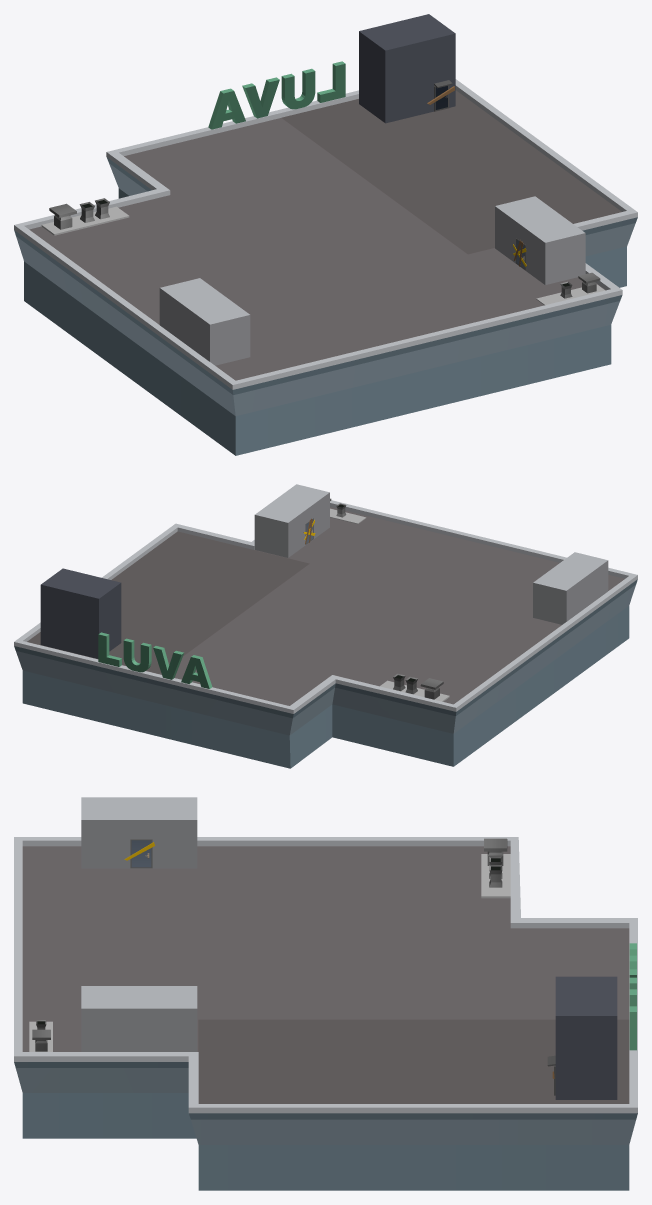
The model's file is building-1 (3).fbx.
The picture shows the model from 3 angles, top to bottom: view 1: azimuth 30°, elevation 25°; view 2: azimuth 150°, elevation 25°; view 3: azimuth 270°, elevation 25°; orthographic projection. The views are drawn at different scales.
Parts seen in each view (by area): view 1: building_1_1, pPlane1, polySurface71 (×2), pCube9, polySurface75, exhaust_pipe_2, exhaust_pipe_4; view 2: building_1_1, pPlane1, polySurface71 (×2), pCube9, polySurface75, exhaust_pipe_2; view 3: building_1_1, pPlane1, polySurface71 (×2), pCube9, exhaust_pipe_2, polySurface75, exhaust_pipe_4.
Boxes of the visible parts, x1,y1,x2,y2 form: building_1_1: [14, 79, 637, 455]; pPlane1: [281, 90, 621, 254]; polySurface71 (×2): [159, 196, 585, 365]; pCube9: [359, 14, 455, 123]; polySurface75: [208, 61, 345, 129]; exhaust_pipe_2: [41, 198, 129, 235]; exhaust_pipe_4: [536, 272, 604, 305]; building_1_1: [14, 500, 637, 768]; pPlane1: [27, 531, 309, 673]; polySurface71 (×2): [254, 484, 608, 624]; pCube9: [40, 568, 121, 658]; polySurface75: [98, 632, 212, 688]; exhaust_pipe_2: [380, 673, 449, 701]; building_1_1: [14, 837, 637, 1190]; pPlane1: [198, 1019, 629, 1103]; polySurface71 (×2): [81, 797, 197, 1051]; pCube9: [555, 976, 617, 1099]; exhaust_pipe_2: [481, 838, 510, 898]; polySurface75: [629, 943, 636, 1050]; exhaust_pipe_4: [29, 1020, 52, 1051].
Size of the model in its own units: 6066 by 1727 by 5908.
